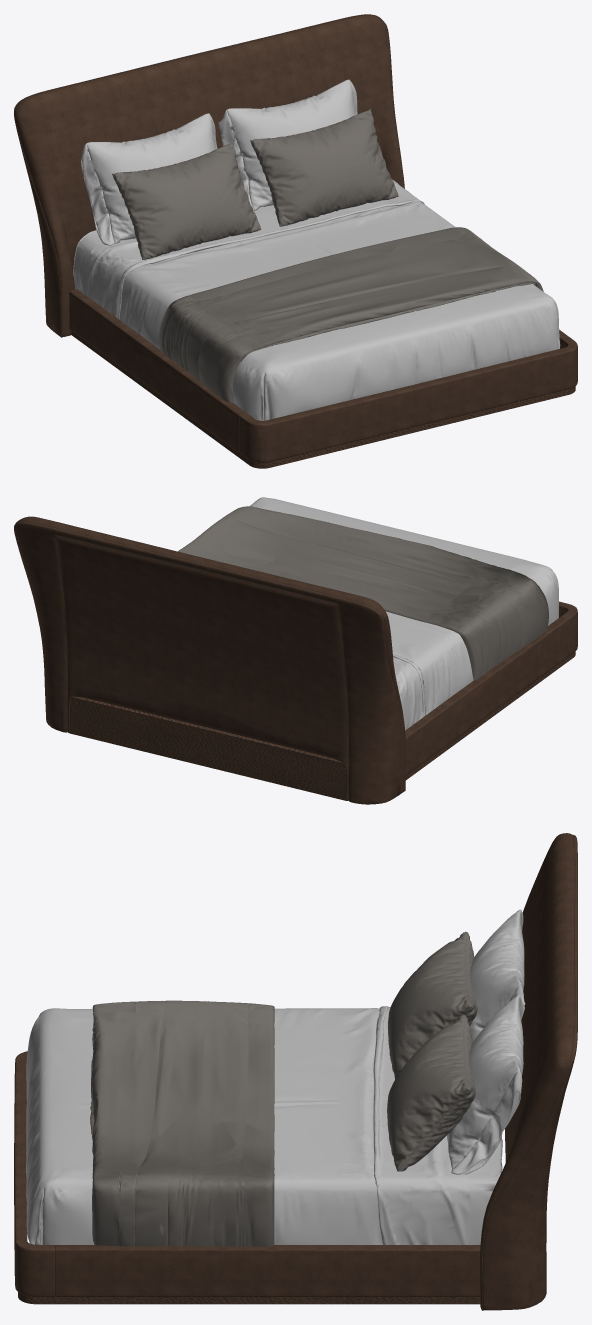
Rendered from b1_transformed-jpeg.glb.
3 views of the same model, one above another, from view 1: azimuth 30°, elevation 25°; view 2: azimuth 150°, elevation 25°; view 3: azimuth 270°, elevation 25° (orthographic). The views are drawn at different scales.
Parts seen in each view (by area): view 1: Object028; view 2: Object028; view 3: Object028.
Part boxes in pixels (x1,y1,x2,y2): Object028: (14, 14, 577, 468); Object028: (14, 497, 577, 804); Object028: (14, 833, 577, 1310).
Bounding box in the file's own units: 0.0217 × 0.0121 × 0.0228.
Materials: 3 (2 with a texture image).
